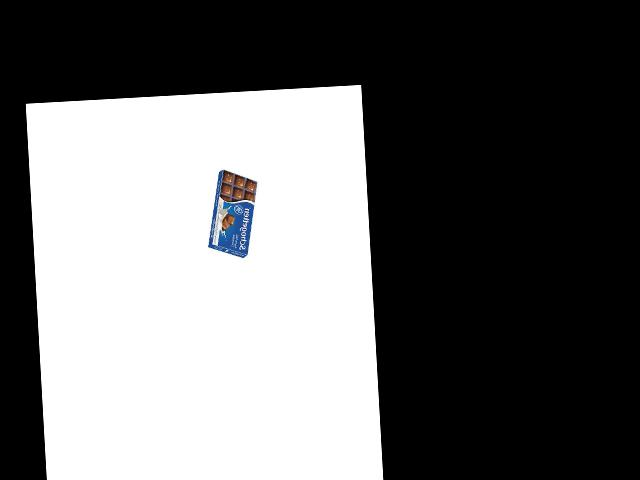chocolate: (211, 166, 261, 261)
